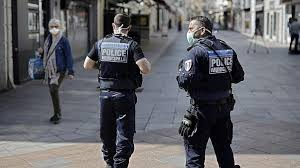mask: (182, 17, 211, 45), (48, 19, 61, 37)
